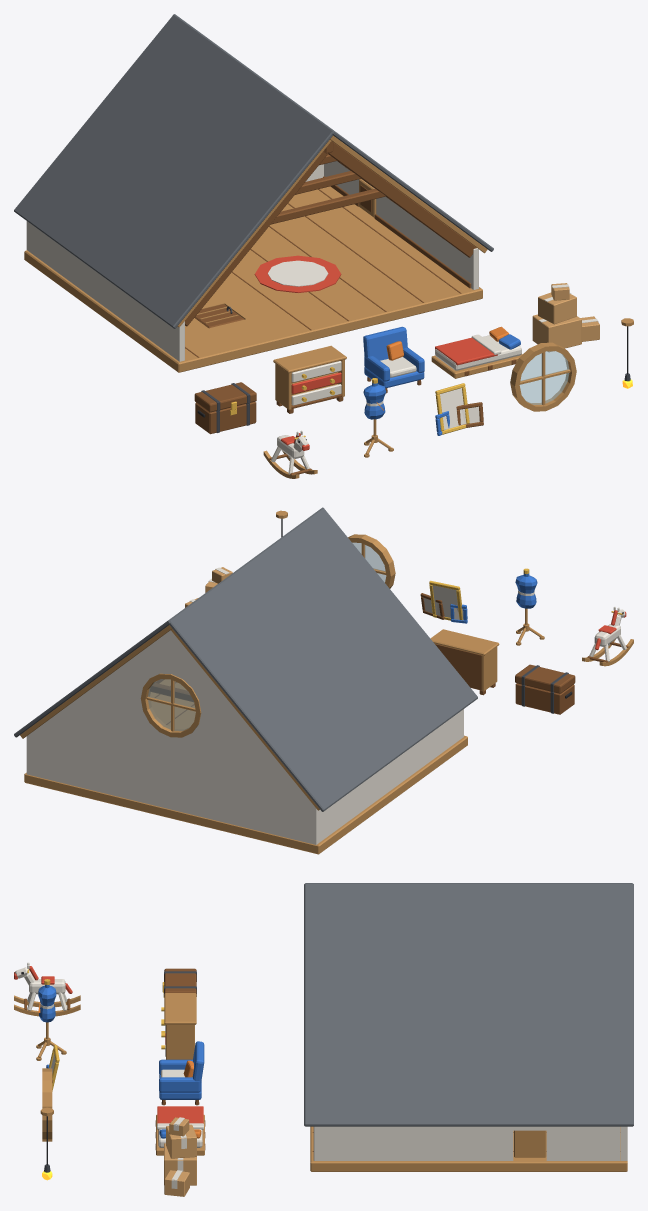
File: cosy-attic-storage-set.glb
3 renders of one model, top to bottom at view 1: azimuth 30°, elevation 25°; view 2: azimuth 150°, elevation 25°; view 3: azimuth 270°, elevation 25°, orthographic. The views are drawn at different scales.
Parts seen in each view (by area): view 1: Attic_RoofSlate_L, Attic_FloorSlab, Attic_KneeWall_L, Attic_KneeWall_R, Attic_Rafter_R0, RoundWindow_Glass, RoundWindow_Frame, Attic_Rug, Attic_RoofSlate_R, Attic_Rafter_L0, Box_Large, Attic_RugInner (+14 smaller); view 2: Attic_RoofSlate_L, Attic_GableWall, Attic_FloorSlab, Attic_KneeWall_L, Attic_RoundWindow_Glass, Attic_RoundWindow_Frame, Attic_RoofSlate_R, Trunk_Body, Dresser_Back, Lid, Attic_RoofBoards_R, Dresser_Top (+5 smaller); view 3: Attic_RoofSlate_R, Attic_KneeWall_R, Attic_FloorSlab, Dresser_Top, Dresser_Side_1, Cupboard_Door, Lid, Bed_Quilt, Box_Medium, RoundWindow_Frame, Chair_Arm_1, Box_Large (+2 smaller).
Boxes of the visible parts, <box> form: Attic_RoofSlate_L: <box>14,14,332,328</box>; Attic_FloorSlab: <box>24,186,482,372</box>; Attic_KneeWall_L: <box>30,223,184,361</box>; Attic_KneeWall_R: <box>324,161,478,289</box>; Attic_Rafter_R0: <box>328,142,476,257</box>; RoundWindow_Glass: <box>519,351,569,404</box>; RoundWindow_Frame: <box>510,342,576,411</box>; Attic_Rug: <box>254,255,341,292</box>; Attic_RoofSlate_R: <box>173,14,493,251</box>; Attic_Rafter_L0: <box>185,150,328,326</box>; Box_Large: <box>532,314,581,351</box>; Attic_RugInner: <box>267,260,328,286</box>; Attic_RoofSlate_L: <box>169,508,477,811</box>; Attic_GableWall: <box>26,630,319,844</box>; Attic_FloorSlab: <box>24,679,467,854</box>; Attic_KneeWall_L: <box>319,709,463,841</box>; Attic_RoundWindow_Glass: <box>148,679,195,730</box>; Attic_RoundWindow_Frame: <box>140,673,201,737</box>; Attic_RoofSlate_R: <box>14,507,323,737</box>; Trunk_Body: <box>515,683,574,714</box>; Dresser_Back: <box>435,644,481,689</box>; Lid: <box>515,664,575,693</box>; Attic_RoofBoards_R: <box>20,625,172,738</box>; Dresser_Top: <box>430,629,499,655</box>; Attic_RoofSlate_R: <box>304,883,633,1126</box>; Attic_KneeWall_R: <box>313,1126,620,1160</box>; Attic_FloorSlab: <box>310,1126,627,1171</box>; Dresser_Top: <box>164,993,196,1024</box>; Dresser_Side_1: <box>166,1025,194,1059</box>; Cupboard_Door: <box>514,1130,546,1157</box>; Lid: <box>164,968,196,993</box>; Bed_Quilt: <box>157,1106,203,1123</box>; Box_Medium: <box>166,1124,196,1158</box>; RoundWindow_Frame: <box>42,1068,52,1141</box>; Chair_Arm_1: <box>159,1077,200,1092</box>; Box_Large: <box>164,1143,196,1185</box>.
Bounding box in the file's own units: 42.29 × 21.13 × 55.86.
